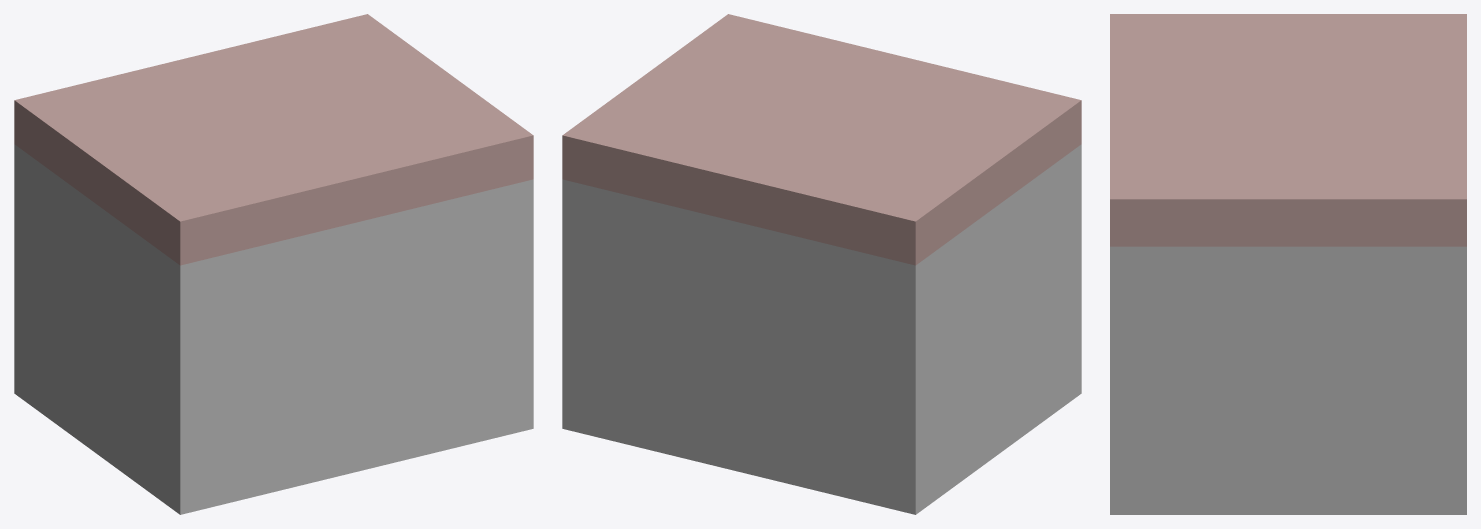
File: Table_Small.fbx
3 views of the same model, side by side, from view 1: azimuth 30°, elevation 25°; view 2: azimuth 150°, elevation 25°; view 3: azimuth 270°, elevation 25° (orthographic). The views are drawn at different scales.
Visible parts, largest first — view 1: Cube.004, Cube.006; view 2: Cube.004, Cube.006; view 3: Cube.004, Cube.006.
Part boxes in pixels (bbox=[...]): Cube.004: bbox=[14, 144, 533, 514]; Cube.006: bbox=[14, 14, 533, 265]; Cube.004: bbox=[562, 144, 1081, 514]; Cube.006: bbox=[562, 14, 1081, 265]; Cube.004: bbox=[1110, 246, 1466, 514]; Cube.006: bbox=[1110, 14, 1466, 246].
Size of the model in its own units: 168 by 133 by 136.
